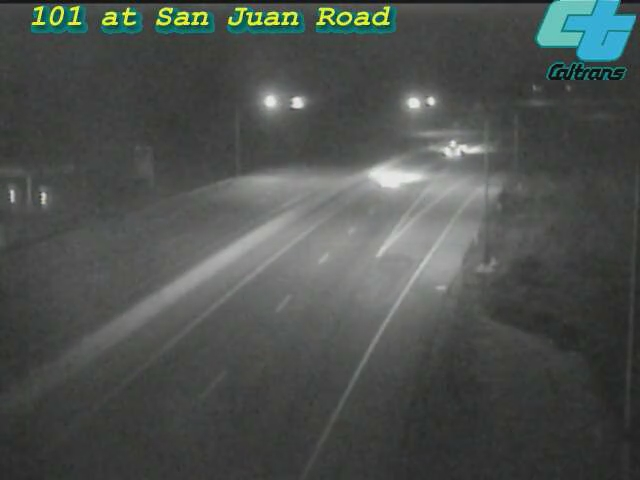vehicle: (358, 134, 438, 214), (434, 120, 484, 170)
